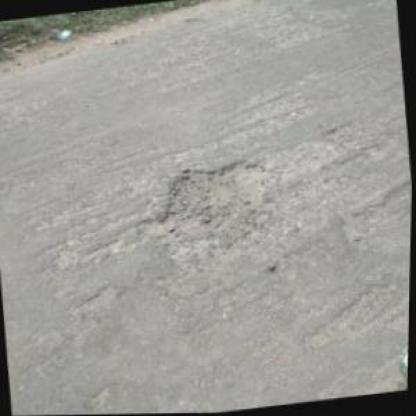pothole: (134, 151, 283, 247)
